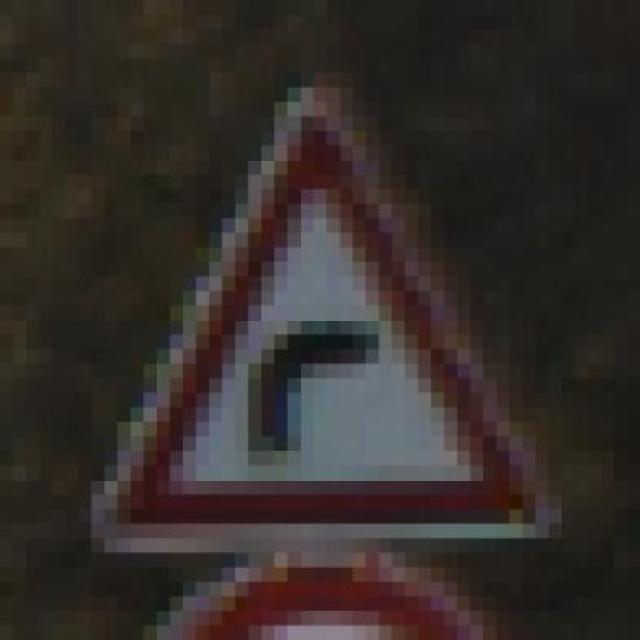Dangerous Rright Curve Ahead: (79, 87, 562, 582)
